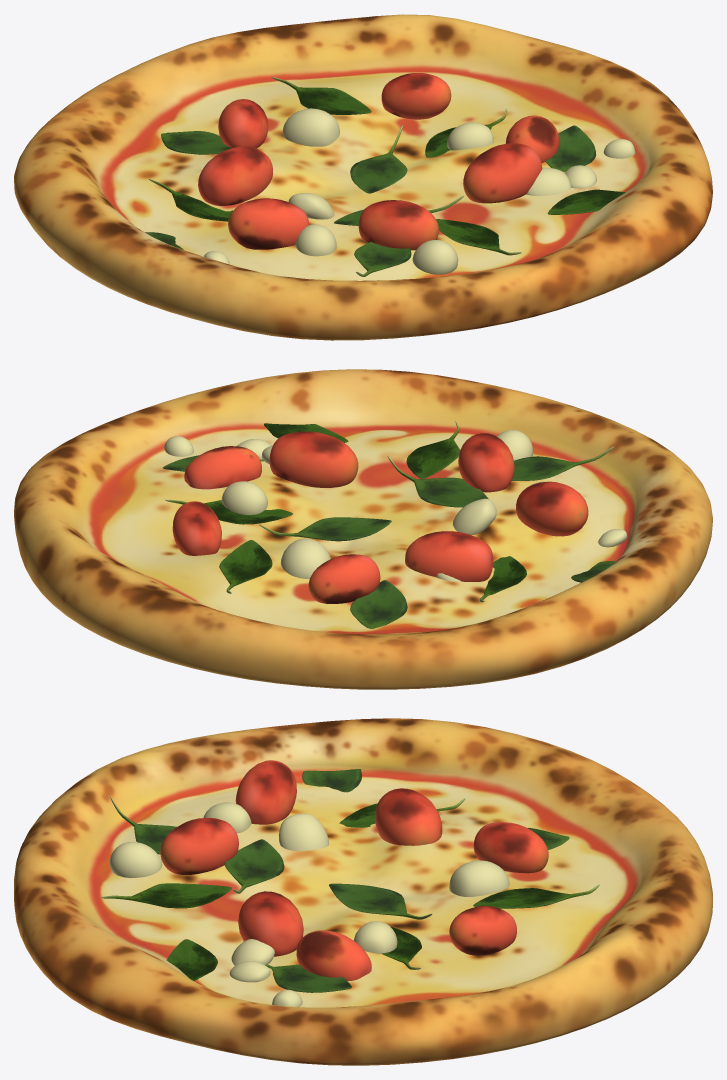
Rendered from pizza.gltf.
3 views of the same model, one above another, from view 1: azimuth 30°, elevation 25°; view 2: azimuth 150°, elevation 25°; view 3: azimuth 270°, elevation 25° (orthographic). The views are drawn at different scales.
Visible parts, largest first — view 1: Pizza_0, Tomato.006_6, Tomato.003_3, Tomato.004_4, Tomato.005_5, Tomato.001_1, Tomato.002_2, Cheese.003_197, Basil.001_8, Tomato.007_7, Basil2.003_13, Basil.006_18 (+12 smaller); view 2: Pizza_0, Tomato.006_6, Tomato.003_3, Tomato.004_4, Tomato.002_2, Tomato.005_5, Tomato.007_7, Tomato.001_1, Basil.004_14, Basil.001_8, Basil.003_12, Basil2.003_13 (+9 smaller); view 3: Pizza_0, Tomato.005_5, Tomato.003_3, Tomato.006_6, Tomato.004_4, Tomato.002_2, Tomato.007_7, Tomato.001_1, Basil2.005_17, Basil.003_12, Basil.001_8, Cheese.003_197 (+13 smaller).
Boxes of the visible parts, x1,y1,x2,y2 form: Pizza_0: (14, 14, 712, 340); Tomato.006_6: (463, 143, 542, 203); Tomato.003_3: (198, 146, 272, 205); Tomato.004_4: (228, 198, 309, 249); Tomato.005_5: (358, 200, 438, 250); Tomato.001_1: (381, 73, 451, 119); Tomato.002_2: (218, 99, 268, 148); Cheese.003_197: (282, 108, 339, 146); Basil.001_8: (350, 125, 407, 193); Tomato.007_7: (505, 115, 559, 162); Basil2.003_13: (271, 77, 371, 114); Basil.006_18: (545, 125, 595, 172); Pizza_0: (14, 369, 712, 689); Tomato.006_6: (269, 431, 358, 487); Tomato.003_3: (405, 531, 493, 581); Tomato.004_4: (516, 481, 588, 536); Tomato.002_2: (308, 554, 380, 603); Tomato.005_5: (458, 433, 514, 492); Tomato.007_7: (184, 446, 261, 489); Tomato.001_1: (172, 501, 221, 555); Basil.004_14: (350, 580, 407, 628); Basil.001_8: (259, 517, 391, 541); Basil.003_12: (387, 456, 488, 507); Basil2.003_13: (219, 540, 272, 593); Pizza_0: (14, 718, 712, 1065); Tomato.005_5: (160, 818, 238, 874); Tomato.003_3: (375, 788, 442, 845); Tomato.006_6: (238, 891, 303, 956); Tomato.004_4: (235, 760, 296, 824); Tomato.002_2: (473, 822, 548, 873); Tomato.007_7: (296, 930, 371, 981); Tomato.001_1: (449, 906, 516, 955); Basil2.005_17: (101, 883, 231, 908); Basil.003_12: (224, 839, 284, 893); Basil.001_8: (329, 883, 432, 919); Cheese.003_197: (449, 860, 509, 896).
Bounding box in the file's own units: 0.3155 × 0.0345 × 0.2995.
Materials: 5 (5 with a texture image).
